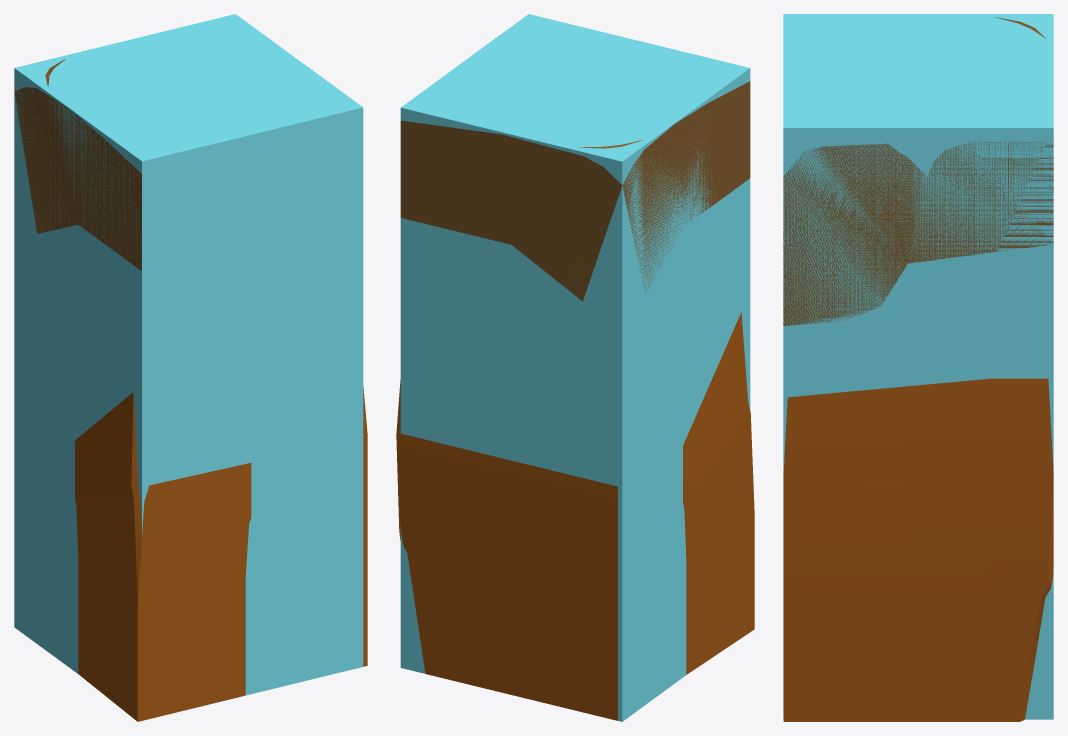
Rendered from PBOX1_Mud_05.FBX.
3 views of the same model, side by side, from view 1: azimuth 30°, elevation 25°; view 2: azimuth 150°, elevation 25°; view 3: azimuth 270°, elevation 25° (orthographic). The views are drawn at different scales.
Parts seen in each view (by area): view 1: PBOX1_Mud_05, PBOX1_SUB_TAB_MUD_007, PBOX1_SUB_Mud_05; view 2: PBOX1_Mud_05, PBOX1_SUB_TAB_MUD_007, PBOX1_SUB_Mud_05; view 3: PBOX1_Mud_05, PBOX1_SUB_TAB_MUD_007, PBOX1_SUB_Mud_05.
Part boxes in pixels (x1,y1,x2,y2): PBOX1_Mud_05: (14,14,363,695); PBOX1_SUB_TAB_MUD_007: (75,386,367,721); PBOX1_SUB_Mud_05: (14,59,141,270); PBOX1_Mud_05: (400,14,750,721); PBOX1_SUB_TAB_MUD_007: (396,312,754,720); PBOX1_SUB_Mud_05: (400,81,750,301); PBOX1_Mud_05: (783,14,1053,719); PBOX1_SUB_TAB_MUD_007: (783,378,1053,721); PBOX1_SUB_Mud_05: (783,17,1053,325).
Bounding box in the file's own units: 6.24 × 14.5 × 6.01.
